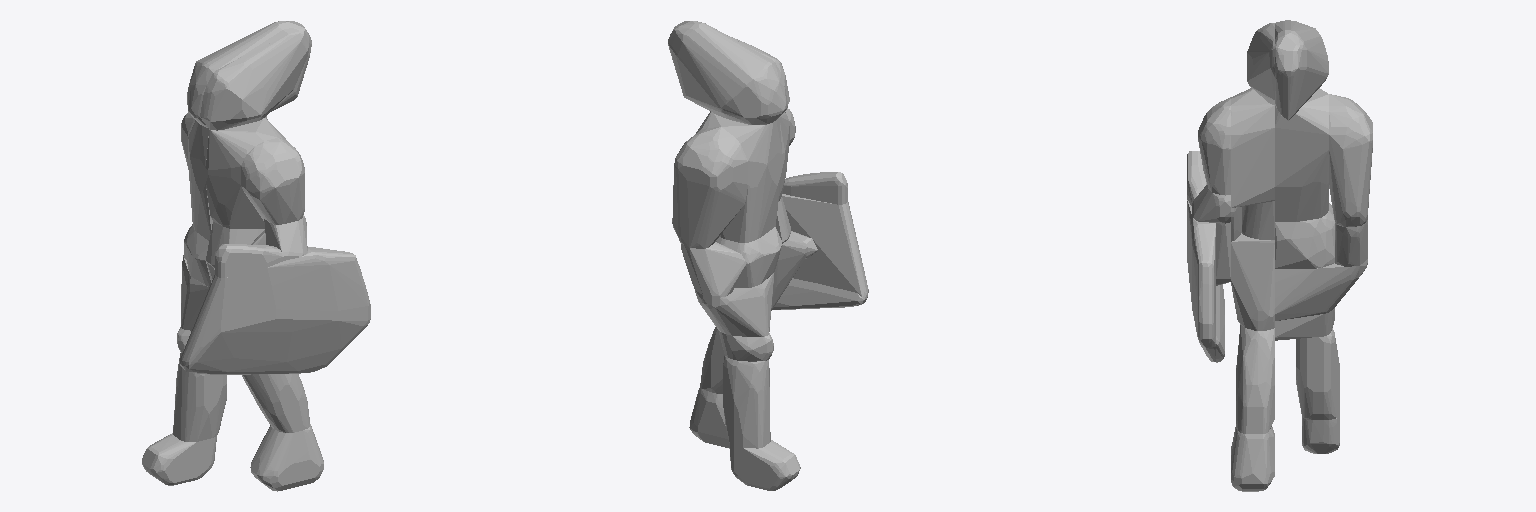
The robot description file, URDF, robot "root":
<?xml version="1.0"?>
<robot name="root">
  <link name="base_link">
    <visual>
      <origin xyz="0 0 0" rpy="0 0 0" />
      <geometry>
        <mesh filename="../meshes/unidex_sem_PersonStanding-123c5debc3bed09f1fdc97905708b8ea_006.obj" scale="1.0000E+00 1.0000E+00 1.0000E+00" />
      </geometry>
      <material name="">
        <color rgba="7.50E-01 7.50E-01 7.50E-01 1" />
      </material>
    </visual>
    <collision>
      <origin xyz="0 0 0" rpy="0 0 0" />
      <geometry>
        <mesh filename="../meshes/unidex_sem_PersonStanding-123c5debc3bed09f1fdc97905708b8ea_006.obj" scale="1.0000E+00 1.0000E+00 1.0000E+00" />
      </geometry>
    </collision>
  </link>
</robot>

--- Facts derived from the render (not from the file) ---
Views: 3 orthographic renders of the robot side by side, from view 1: azimuth 30°, elevation 25°; view 2: azimuth 150°, elevation 25°; view 3: azimuth 270°, elevation 25°.
Robot: root — 1 links, 0 joints (none); root link base_link; default pose: every joint at zero.
Links seen in each view (by area): view 1: base_link; view 2: base_link; view 3: base_link.
Boxes of the visible links, left/top/right/bottom form: base_link: left=142, top=21, right=370, bottom=491; base_link: left=668, top=21, right=868, bottom=490; base_link: left=1187, top=20, right=1372, bottom=491.
Size in the robot's own frame: 0.0488 by 0.0415 by 0.1122 metres.
Meshes: 1 distinct files referenced, 1 mesh visuals loaded (1 OBJ).
